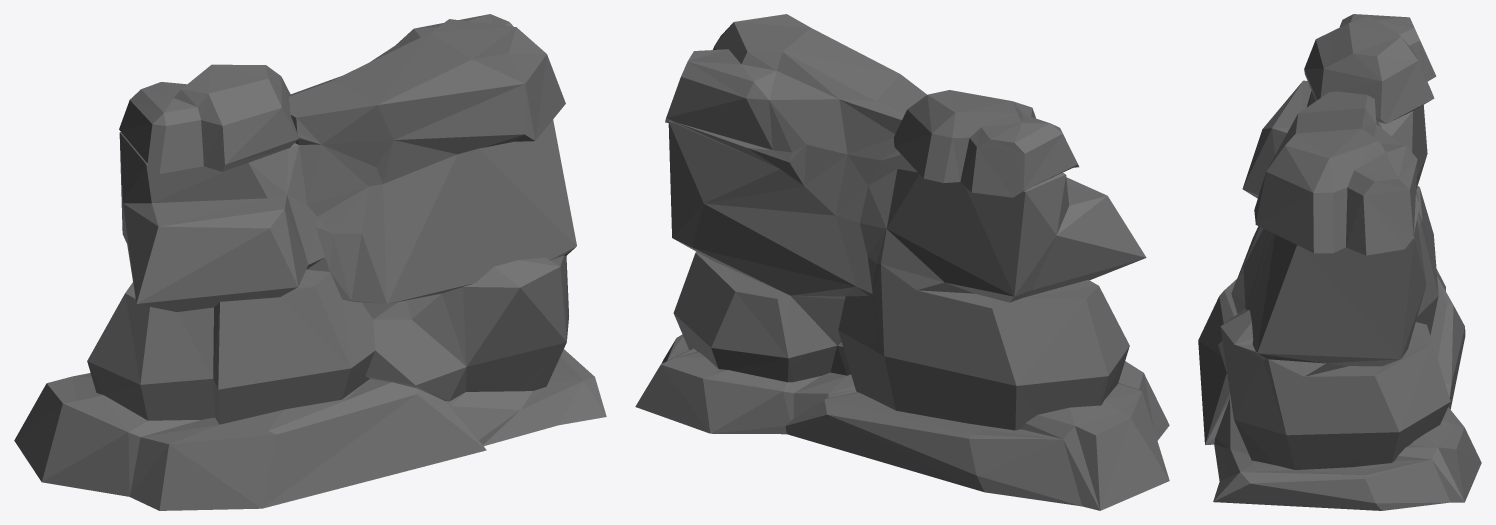
The model's file is rock__rockform_wall_short1_medium.glb.
The picture shows the model from 3 angles, left to right: view 1: azimuth 30°, elevation 25°; view 2: azimuth 150°, elevation 25°; view 3: azimuth 270°, elevation 25°; orthographic projection. The views are drawn at different scales.
Parts seen in each view (by area): view 1: rockform.wall.short1.medium; view 2: rockform.wall.short1.medium; view 3: rockform.wall.short1.medium.
Part boxes in pixels (x1=…): rockform.wall.short1.medium: x1=14, y1=14, x2=606, y2=510; rockform.wall.short1.medium: x1=635, y1=14, x2=1169, y2=510; rockform.wall.short1.medium: x1=1198, y1=14, x2=1481, y2=510.
Bounding box in the file's own units: 22.98 × 15.12 × 11.75.
Materials: 1 (1 with a texture image).
